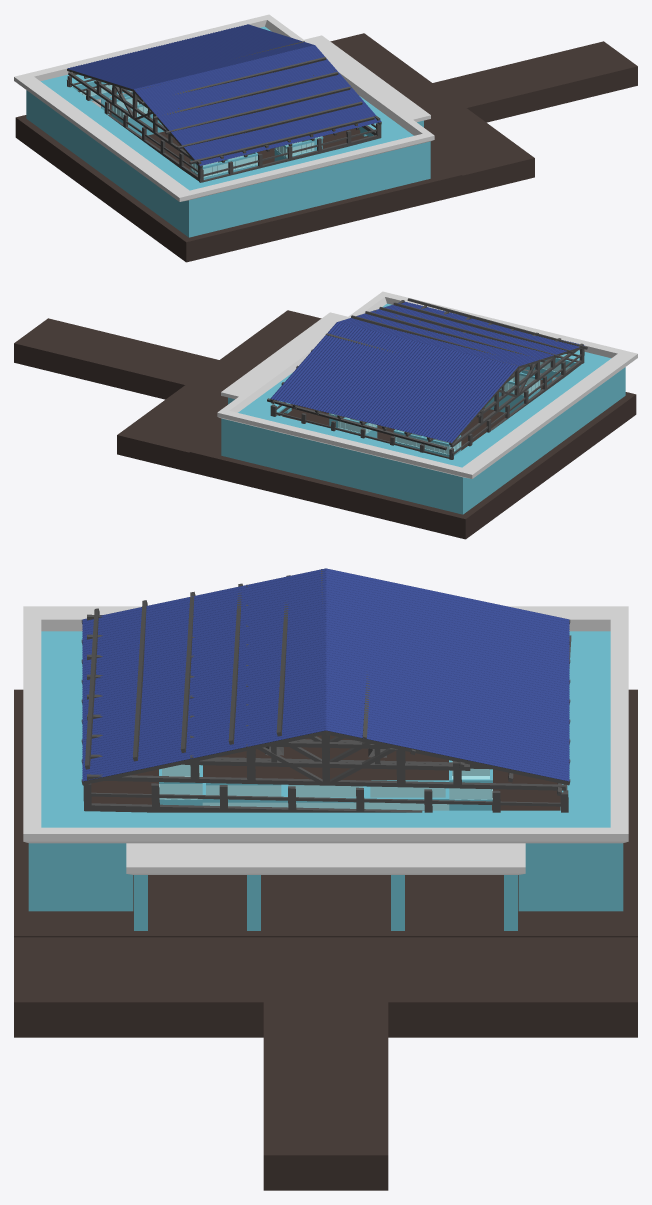
The model's file is PALENGKE6.fbx.
The picture shows the model from 3 angles, top to bottom: view 1: azimuth 30°, elevation 25°; view 2: azimuth 150°, elevation 25°; view 3: azimuth 270°, elevation 25°; orthographic projection. The views are drawn at different scales.
Parts seen in each view (by area): view 1: Cube, Cube.481, bubong2.001, Cube.147, Cube.486, Cube.484, Cube.144, Cube.145, Roof.030, Roof.017; view 2: Cube, Cube.481, bubong2.001, Cube.147, Cube.144, Cube.484, Cube.486, Cube.145, Roof.031, Cube.485; view 3: Cube, bubong2.001, Cube.481, Cube.144, Cube.484, Cube.147, Cube.145, Cube.485, Cube.480, Roof.004, Cube.482, Cube.483 (+4 smaller).
Boxes of the visible parts, x1,y1,x2,y2 form: Cube: (15,33,637,262); Cube.481: (14,14,434,237); bubong2.001: (67,24,381,165); Cube.147: (73,41,374,164); Cube.486: (67,79,380,182); Cube.484: (67,75,381,181); Cube.144: (68,70,380,164); Cube.145: (67,69,381,168); Roof.030: (190,159,230,179); Roof.017: (274,139,314,158); Cube: (14,310,636,539); Cube.481: (217,291,637,514); bubong2.001: (270,301,584,442); Cube.147: (267,298,587,450); Cube.144: (271,300,583,447); Cube.484: (270,348,584,459); Cube.486: (271,351,584,459); Cube.145: (270,346,584,445); Roof.031: (421,435,461,456); Cube.485: (477,354,557,417); Cube: (14,689,637,1190); bubong2.001: (82,568,569,781); Cube.481: (23,606,628,911); Cube.144: (87,584,565,790); Cube.484: (83,783,568,812); Cube.147: (85,575,571,796); Cube.145: (81,620,570,785); Cube.485: (182,741,470,770); Cube.480: (101,735,565,790); Roof.004: (367,780,449,810); Cube.482: (247,875,404,930); Cube.483: (134,875,517,930).
Size of the model in its own units: 163 by 30.65 by 91.99.
